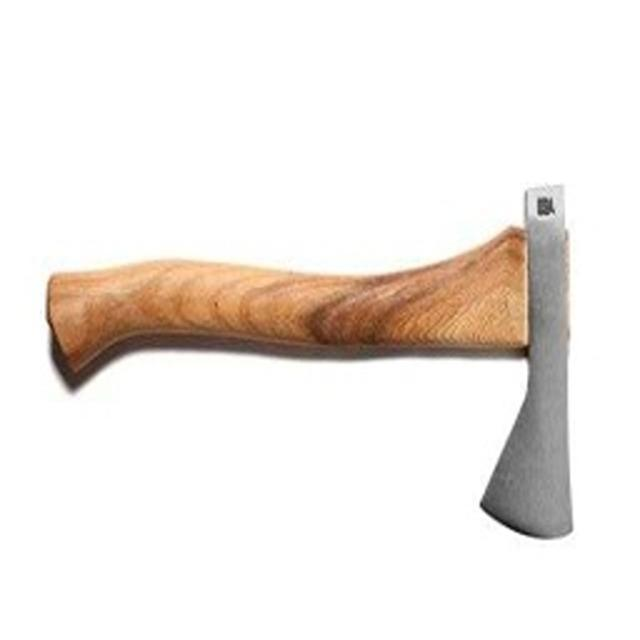ax: (34, 173, 586, 551)
